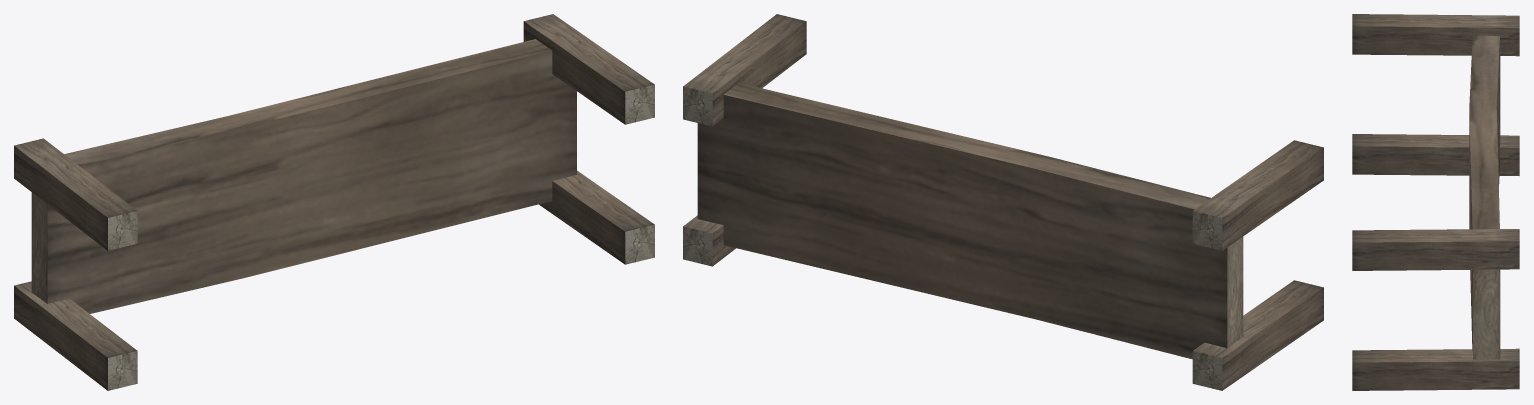
The model's file is Counter_Type_01_A.fbx.
3 views of the same model, side by side, from view 1: azimuth 30°, elevation 25°; view 2: azimuth 150°, elevation 25°; view 3: azimuth 270°, elevation 25° (orthographic). The views are drawn at different scales.
Visible parts, largest first — view 1: Counter_Type_01_A; view 2: Counter_Type_01_A; view 3: Counter_Type_01_A.
Part boxes in pixels (box(x1,y1,x2,y2)): Counter_Type_01_A: box(14, 14, 654, 390); Counter_Type_01_A: box(683, 14, 1323, 390); Counter_Type_01_A: box(1352, 14, 1519, 390).
Bounding box in the file's own units: 3.37 × 1.02 × 1.04.
